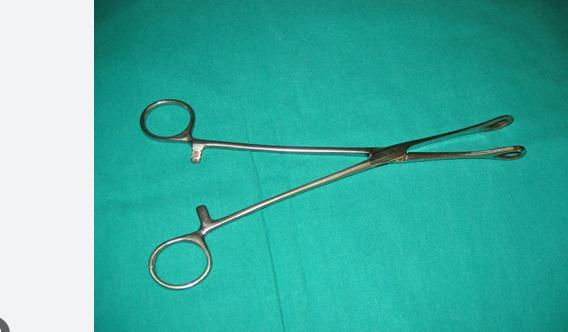Sponge Holding Forceps: (137, 93, 531, 294)
